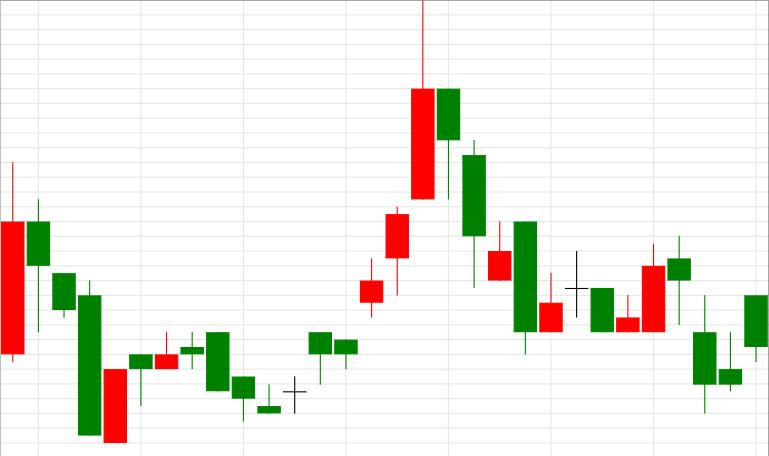hanging_man_fall: (283, 0, 460, 413)
